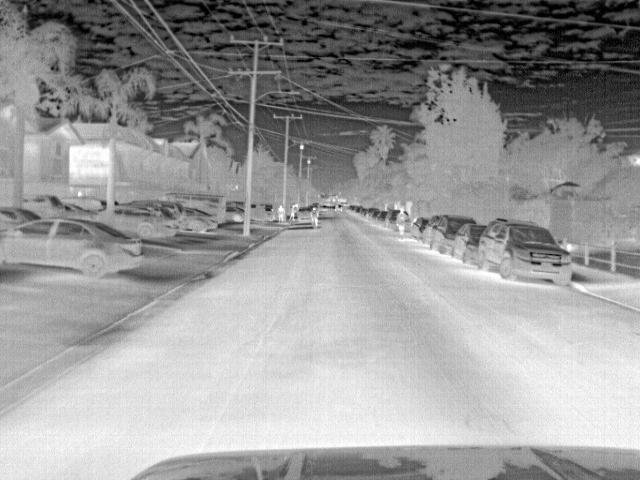car: (1, 215, 145, 279), (475, 220, 574, 286), (96, 205, 177, 239), (159, 190, 227, 225), (437, 212, 472, 259), (453, 224, 487, 264), (19, 193, 67, 220), (1, 206, 39, 234), (184, 206, 221, 232), (423, 213, 439, 245), (410, 219, 428, 239), (228, 206, 245, 222), (385, 207, 399, 226), (375, 209, 389, 227)
person: (395, 208, 410, 234), (308, 204, 321, 227), (289, 204, 301, 224), (276, 204, 287, 224)
